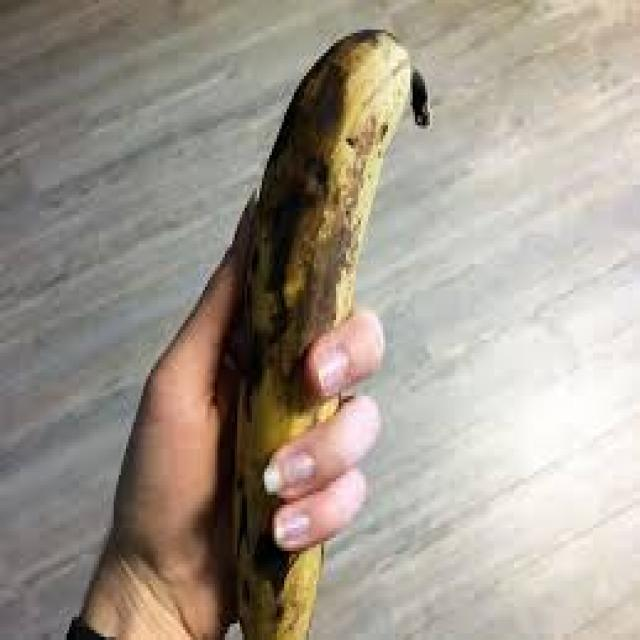organic waste: (227, 29, 430, 636)
